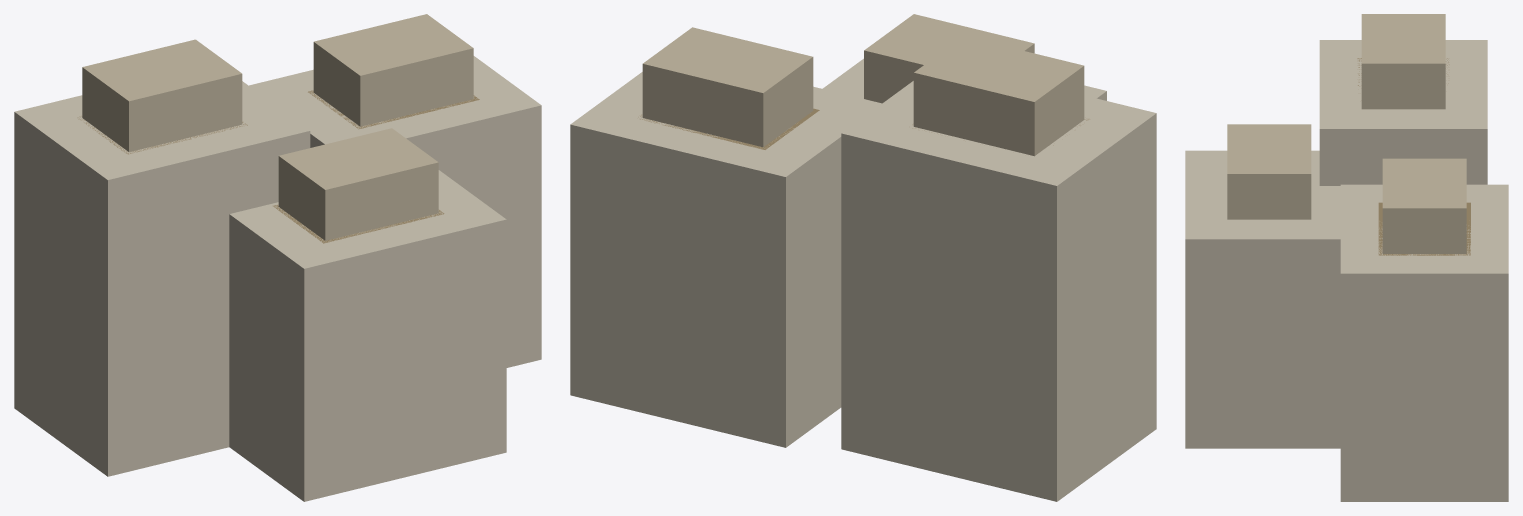
File: nt-flour-sacks.glb
3 renders of one model, left to right at view 1: azimuth 30°, elevation 25°; view 2: azimuth 150°, elevation 25°; view 3: azimuth 270°, elevation 25°, orthographic. The views are drawn at different scales.
Parts seen in each view (by area): view 1: box-prop; view 2: box-prop; view 3: box-prop.
Part boxes in pixels (box(x1,y1,x2,y2)): box-prop: box(14, 14, 541, 501); box-prop: box(570, 14, 1156, 501); box-prop: box(1185, 14, 1508, 501).
Bounding box in the file's own units: 1.1 × 0.82 × 0.77.
